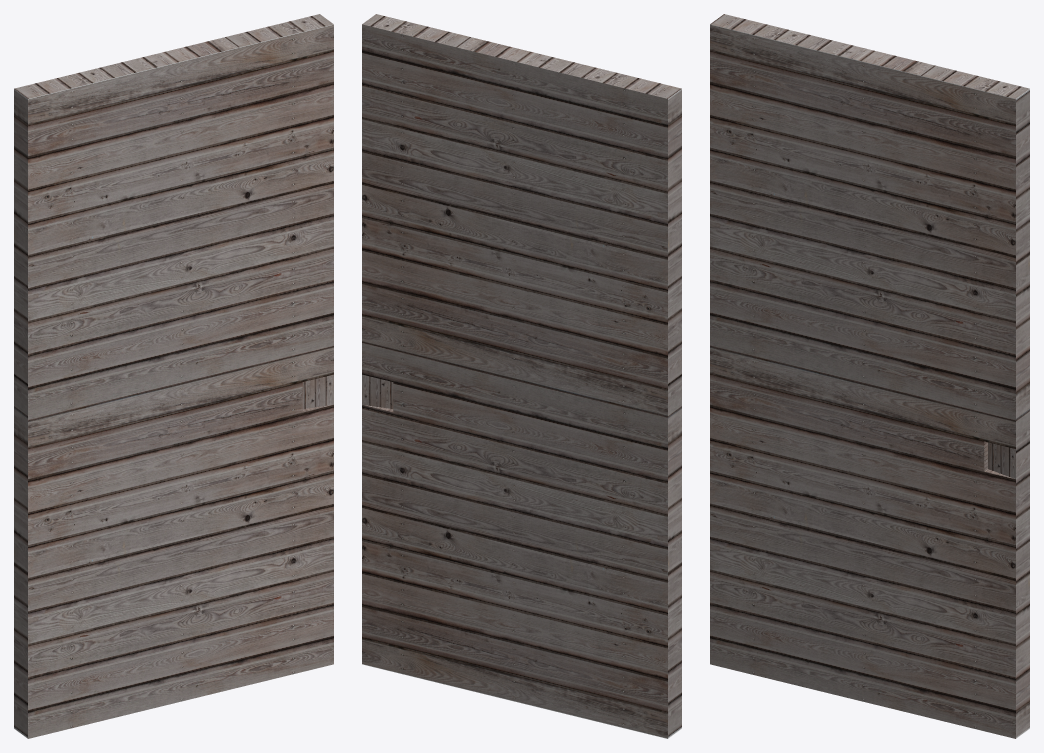
The model's file is WoodDool.FBX.
3 views of the same model, side by side, from view 1: azimuth 30°, elevation 25°; view 2: azimuth 150°, elevation 25°; view 3: azimuth 330°, elevation 25° (orthographic).
Visible parts, largest first — view 1: WoodDoor; view 2: WoodDoor; view 3: WoodDoor.
Part boxes in pixels (bbox=[...]): WoodDoor: bbox=[14, 14, 333, 738]; WoodDoor: bbox=[362, 14, 681, 738]; WoodDoor: bbox=[710, 14, 1029, 738].
Bounding box in the file's own units: 50 × 100 × 4.
Materials: 1 (1 with a texture image).
